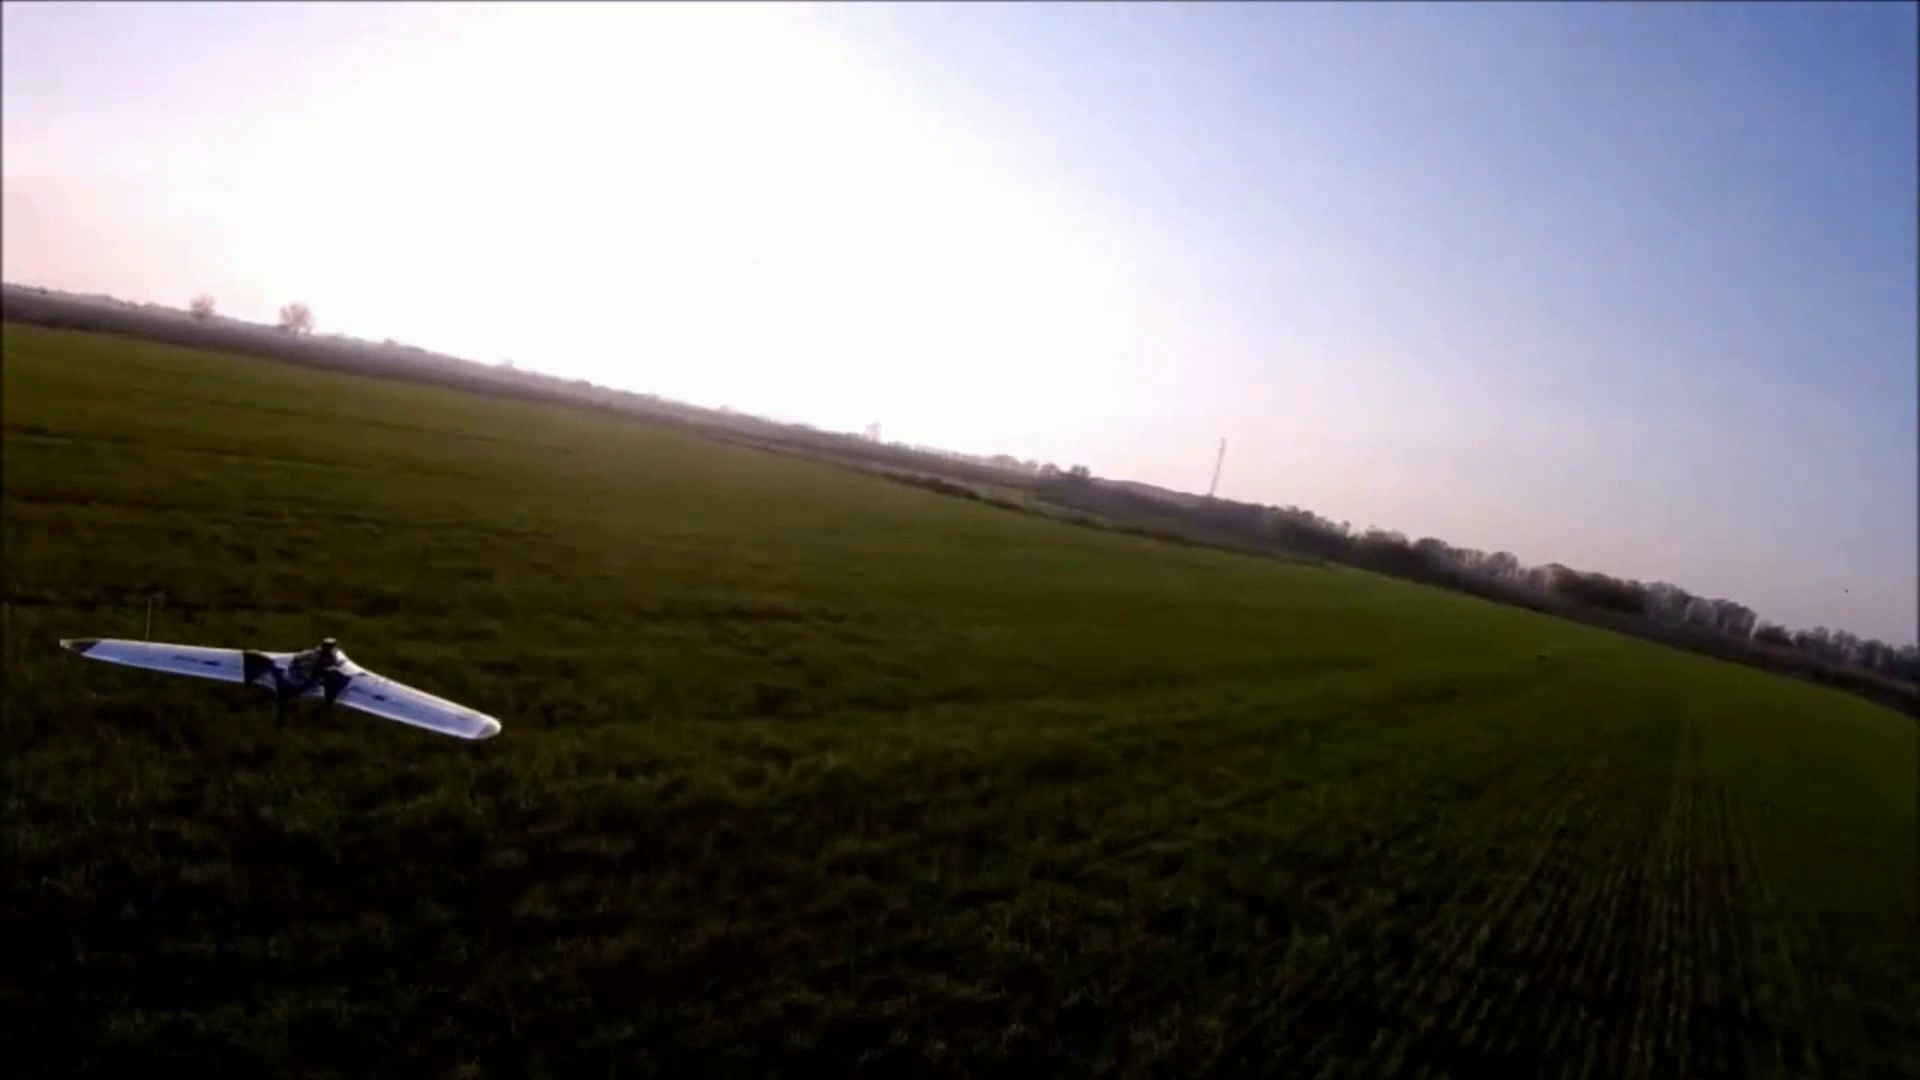airplane: (67, 636, 502, 745)
